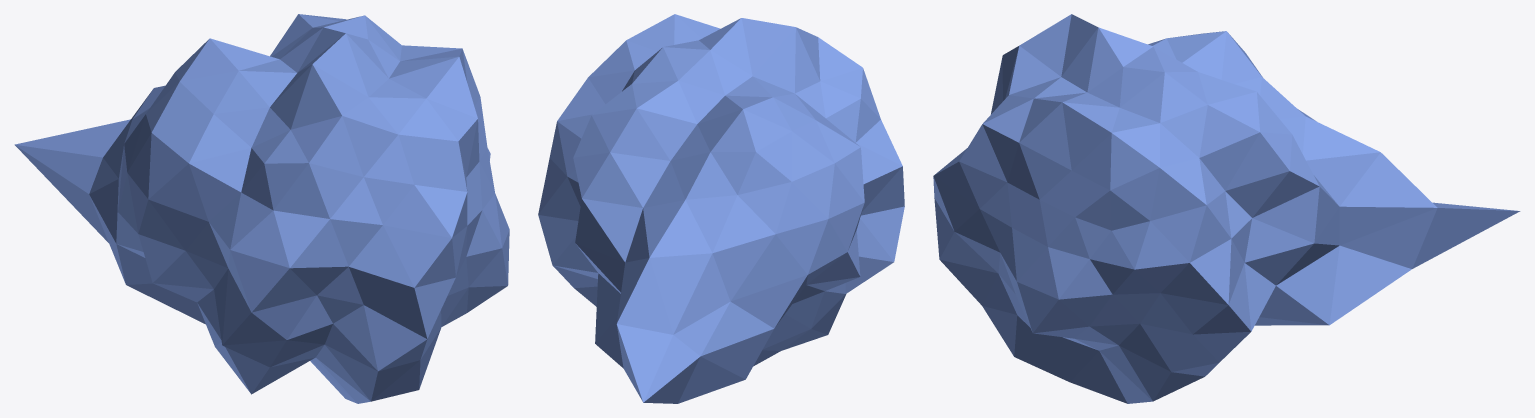
File: Blue flame.fbx
The picture shows the model from 3 angles, left to right: view 1: azimuth 30°, elevation 25°; view 2: azimuth 150°, elevation 25°; view 3: azimuth 270°, elevation 25°; orthographic projection. The views are drawn at different scales.
Parts seen in each view (by area): view 1: Fire ball not animated.001; view 2: Fire ball not animated.001; view 3: Fire ball not animated.001.
Boxes of the visible parts, <box> form: Fire ball not animated.001: <box>14,14,509,403</box>; Fire ball not animated.001: <box>538,14,904,403</box>; Fire ball not animated.001: <box>933,14,1520,403</box>.
Bounding box in the file's own units: 79.64 × 83.22 × 126.
